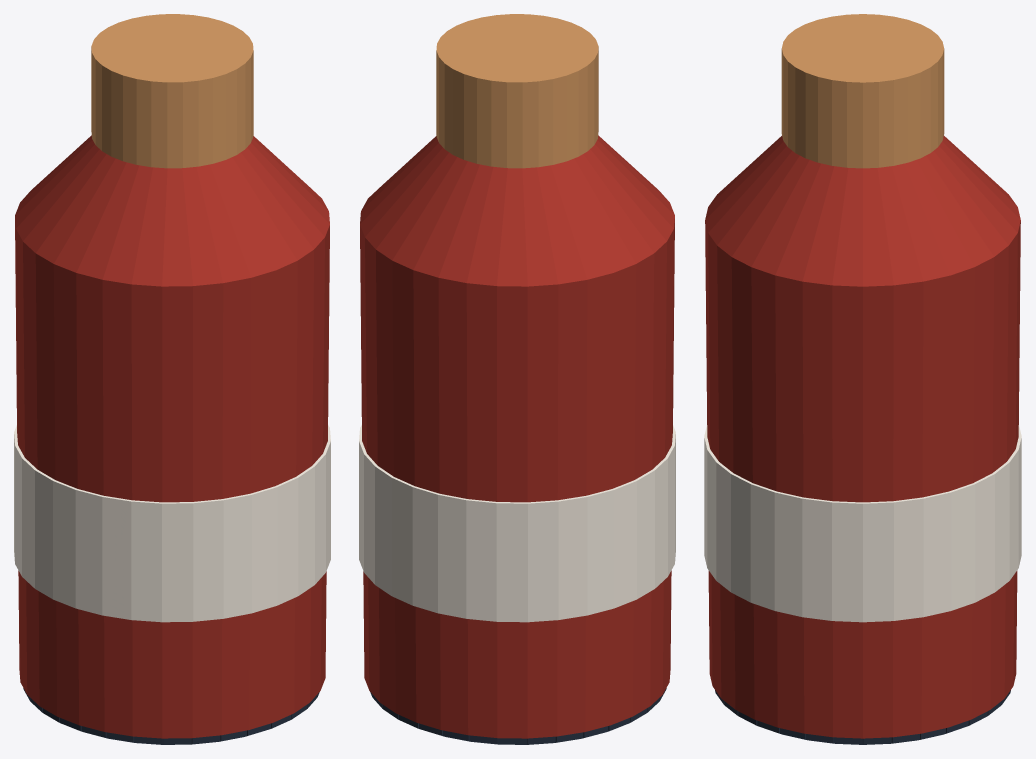
The model's file is bottle.glb.
3 views of the same model, side by side, from view 1: azimuth 30°, elevation 25°; view 2: azimuth 150°, elevation 25°; view 3: azimuth 270°, elevation 25° (orthographic).
Parts seen in each view (by area): view 1: bottle body, grip band, shoulder, bottle cap; view 2: bottle body, grip band, shoulder, bottle cap; view 3: bottle body, grip band, shoulder, bottle cap.
Boxes of the visible parts, x1,y1,x2,y2 form: bottle body: (15,219,329,738); grip band: (14,425,330,622); shoulder: (15,135,329,286); bottle cap: (91,14,253,168); bottle body: (360,219,674,738); grip band: (359,425,675,622); shoulder: (360,135,674,286); bottle cap: (436,14,598,168); bottle body: (705,220,1020,738); grip band: (704,425,1021,622); shoulder: (705,136,1020,286); bottle cap: (781,14,944,168).
Size of the model in its own units: 0.704 by 1.55 by 0.704.
